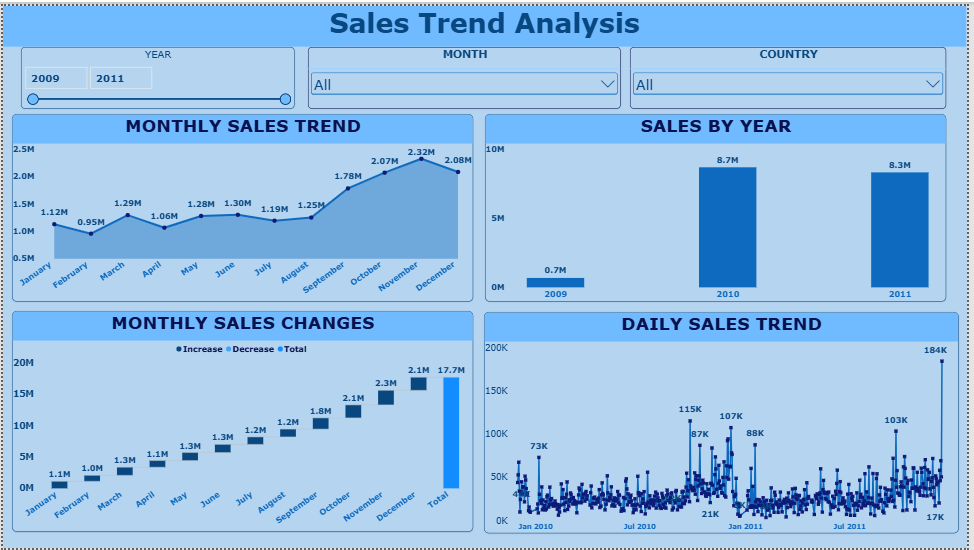

The dashboard page shown, as its layout file describes it:
{"tool":"powerbi","page":{"name":"Sales Trend Analysis","canvas":[1920,1080],"ordinal":1},"visuals":[{"type":"textbox","box":[0,0,1919.1,80.9],"z":0},{"type":"areaChart","title":"MONTHLY SALES TREND","fields":{"Category":["CLEANED.DATE.Variation.Date Hierarchy.Month"],"Y":["Sum(CLEANED.TOTAL SALES)"]},"box":[17,214.9,919.1,374.5],"z":1000},{"type":"clusteredColumnChart","title":"SALES BY YEAR","fields":{"Category":["CLEANED.YEAR"],"Y":["CLEANED.Sales"]},"box":[959.6,214.9,919.1,374.5],"z":2000},{"type":"waterfallChart","title":"MONTHLY SALES CHANGES","fields":{"Category":["CLEANED.DATE.Variation.Date Hierarchy.Month"],"Y":["Sum(CLEANED.TOTAL SALES)"]},"box":[17,608.5,919.1,440.4],"z":3000},{"type":"slicer","title":"YEAR","fields":{"Values":["CLEANED.YEAR"]},"box":[36.2,80.9,544.7,123.4],"z":5000},{"type":"slicer","title":"MONTH","fields":{"Values":["CLEANED.MONTH"]},"box":[608.5,80.9,623.4,123.4],"z":6000},{"type":"slicer","title":"COUNTRY","fields":{"Values":["CLEANED.Country"]},"box":[1248.9,80.9,629.8,123.4],"z":7000},{"type":"lineChart","title":"DAILY SALES TREND","fields":{"Category":["CLEANED.DATE"],"Y":["Sum(CLEANED.TOTAL SALES)"]},"box":[959,609.5,945.6,441.4],"z":7001}]}

Visuals, with their boxes in screenshot pixels (x1, y1, x2, y2), scaled from the page's 1920x1080 canvas onto the 974x550 screenshot:
textbox: Rect(0, 0, 973, 41)
"MONTHLY SALES TREND" areaChart: Rect(9, 109, 475, 300)
"SALES BY YEAR" clusteredColumnChart: Rect(487, 109, 953, 300)
"MONTHLY SALES CHANGES" waterfallChart: Rect(9, 310, 475, 534)
"YEAR" slicer: Rect(18, 41, 295, 104)
"MONTH" slicer: Rect(309, 41, 625, 104)
"COUNTRY" slicer: Rect(634, 41, 953, 104)
"DAILY SALES TREND" lineChart: Rect(486, 310, 966, 535)
